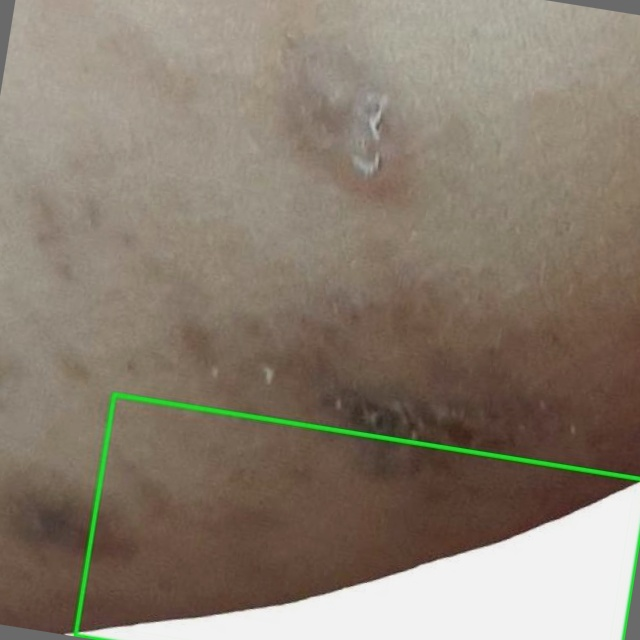Scabies: (75, 394, 639, 639)
